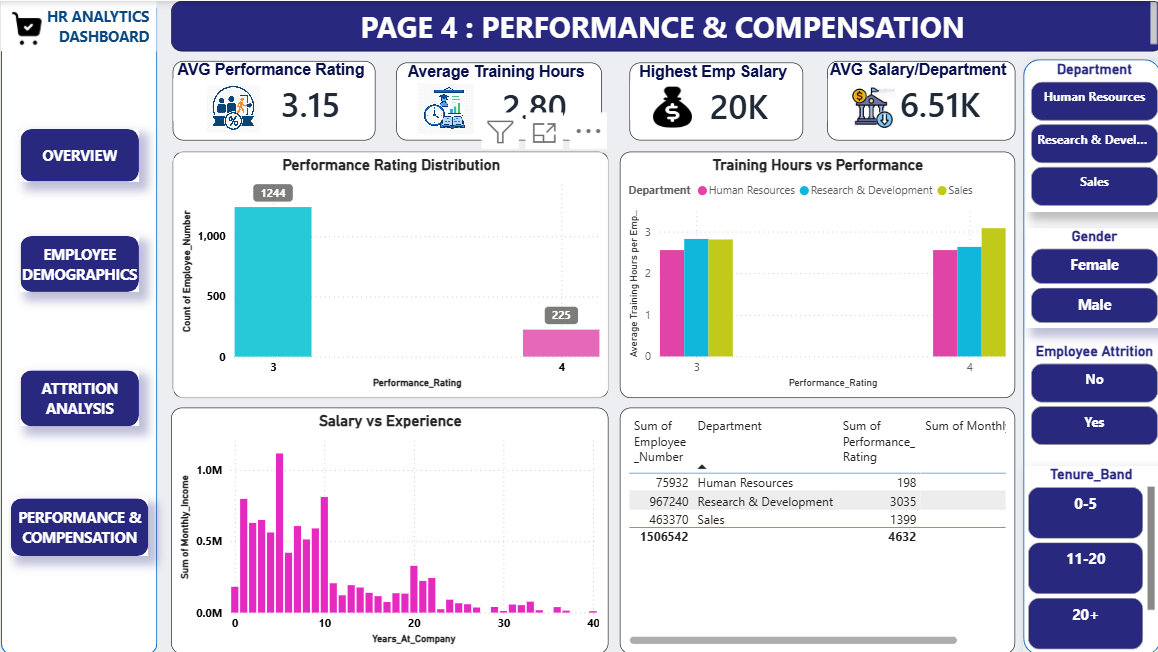

This screenshot's page, from the dashboard's own definition file:
{"tool":"powerbi","page":{"name":"Page 4","canvas":[1280,720],"ordinal":3},"visuals":[{"type":"shape","box":[0,0,172.3,720.6],"z":0},{"type":"textbox","box":[187.2,0,1093.6,55.3],"z":1000},{"type":"cardVisual","title":"AVG Performance Rating","fields":{"Data":["Excel_HR_Cleaned_Data.Average Performance Rating"]},"box":[189.5,65.7,245.6,87],"z":2000},{"type":"cardVisual","title":"Average Training Hours","fields":{"Data":["Excel_HR_Cleaned_Data.Average Training Hours per Employee"]},"box":[482.2,66.1,226.8,85.7],"z":3000},{"type":"cardVisual","title":"Highest Emp Salary","fields":{"Data":["Excel_HR_Cleaned_Data.Highest Salary"]},"box":[753.7,66.1,234,85.7],"z":4000},{"type":"cardVisual","title":"AVG Salary Per Department","fields":{"Data":["Excel_HR_Cleaned_Data.Average Salary per Department"]},"box":[1011.3,65.7,268.8,87],"z":5000},{"type":"clusteredBarChart","title":"Performance Rating Distribution","fields":{"Category":["Excel_HR_Cleaned_Data.Performance_Rating"],"Y":["Count(Excel_HR_Cleaned_Data.Employee_Number)"]},"box":[189.3,166.1,540,271],"z":6000},{"type":"tableEx","fields":{"Values":["Sum(Excel_HR_Cleaned_Data.Employee_Number)","Excel_HR_Cleaned_Data.Department","Sum(Excel_HR_Cleaned_Data.Performance_Rating)","Sum(Excel_HR_Cleaned_Data.Monthly_Income)"]},"box":[741.2,448.3,539.3,271.5],"z":7000},{"type":"columnChart","title":"Salary vs Experience","fields":{"Category":["Excel_HR_Cleaned_Data.Years_At_Company"],"Y":["Sum(Excel_HR_Cleaned_Data.Monthly_Income)"]},"box":[187.5,448.3,541.1,271.5],"z":8000},{"type":"clusteredColumnChart","title":"Training Hours vs Performance","fields":{"Y":["Excel_HR_Cleaned_Data.Average Training Hours per Employee"],"Category":["Excel_HR_Cleaned_Data.Performance_Rating"],"Series":["Excel_HR_Cleaned_Data.Department"]},"box":[741.2,166.1,539.3,271.5],"z":9000},{"type":"actionButton","box":[12.4,548.9,148.3,63.5],"z":10000},{"type":"actionButton","box":[10.6,407.7,148.3,61.8],"z":11000},{"type":"actionButton","box":[10.6,259.4,148.3,61.8],"z":12000},{"type":"actionButton","box":[10.6,141.2,148.3,58.2],"z":13000},{"type":"actionButton","box":[0,0,171.4,55.4],"z":14000},{"type":"image","box":[212.5,87.5,78.6,55.4],"z":15000},{"type":"listSlicer","fields":{"Values":["Excel_HR_Cleaned_Data.Department"]},"box":[1096,0,184,56],"z":16000},{"type":"listSlicer","fields":{"Values":["Excel_HR_Cleaned_Data.Gender"]},"box":[896,0,184,56],"z":17000},{"type":"image","box":[494.7,85.7,78.6,57.1],"z":17001},{"type":"image","box":[775.1,87.5,75,53.6],"z":17002},{"type":"image","box":[1044.8,87.5,71.4,57.1],"z":17003}]}

Visuals, with their boxes on the page's 1280x720 design canvas (x1, y1, x2, y2). These are canvas units, not pixel positions in the 1158x652 screenshot, which may show the page scaled, cropped or inside an application window:
shape: box(0, 0, 172, 721)
textbox: box(187, 0, 1281, 55)
"AVG Performance Rating" cardVisual: box(190, 66, 435, 153)
"Average Training Hours" cardVisual: box(482, 66, 709, 152)
"Highest Emp Salary" cardVisual: box(754, 66, 988, 152)
"AVG Salary Per Department" cardVisual: box(1011, 66, 1280, 153)
"Performance Rating Distribution" clusteredBarChart: box(189, 166, 729, 437)
tableEx - Sum(Excel_HR_Cleaned_Data.Employee_Number) x Excel_HR_Cleaned_Data.Department: box(741, 448, 1280, 720)
"Salary vs Experience" columnChart: box(188, 448, 729, 720)
"Training Hours vs Performance" clusteredColumnChart: box(741, 166, 1280, 438)
actionButton: box(12, 549, 161, 612)
actionButton: box(11, 408, 159, 470)
actionButton: box(11, 259, 159, 321)
actionButton: box(11, 141, 159, 199)
actionButton: box(0, 0, 171, 55)
image: box(212, 88, 291, 143)
listSlicer - Excel_HR_Cleaned_Data.Department: box(1096, 0, 1280, 56)
listSlicer - Excel_HR_Cleaned_Data.Gender: box(896, 0, 1080, 56)
image: box(495, 86, 573, 143)
image: box(775, 88, 850, 141)
image: box(1045, 88, 1116, 145)
